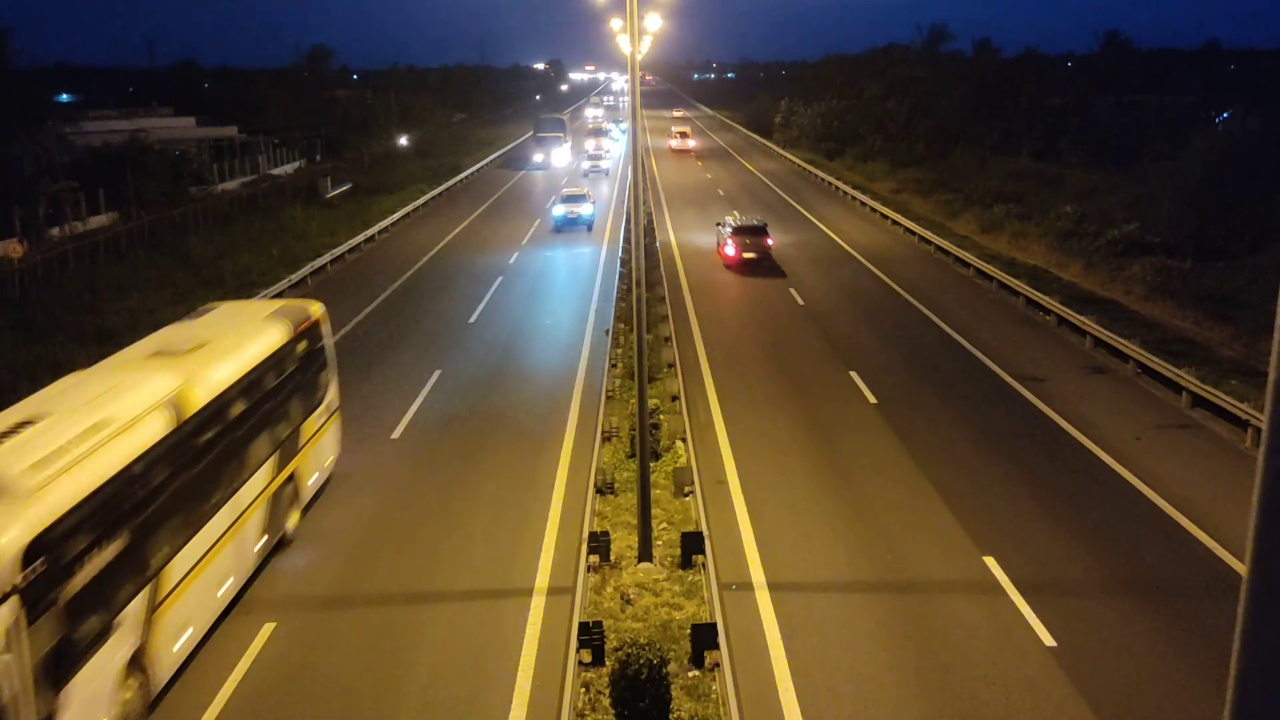bus: (3, 295, 344, 717)
car: (717, 213, 775, 271), (547, 186, 597, 233), (667, 128, 697, 153)
